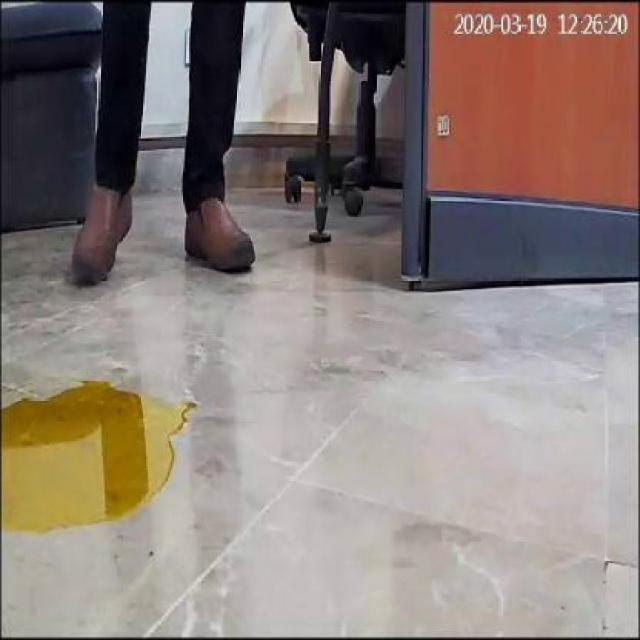spill: (4, 378, 198, 544)
